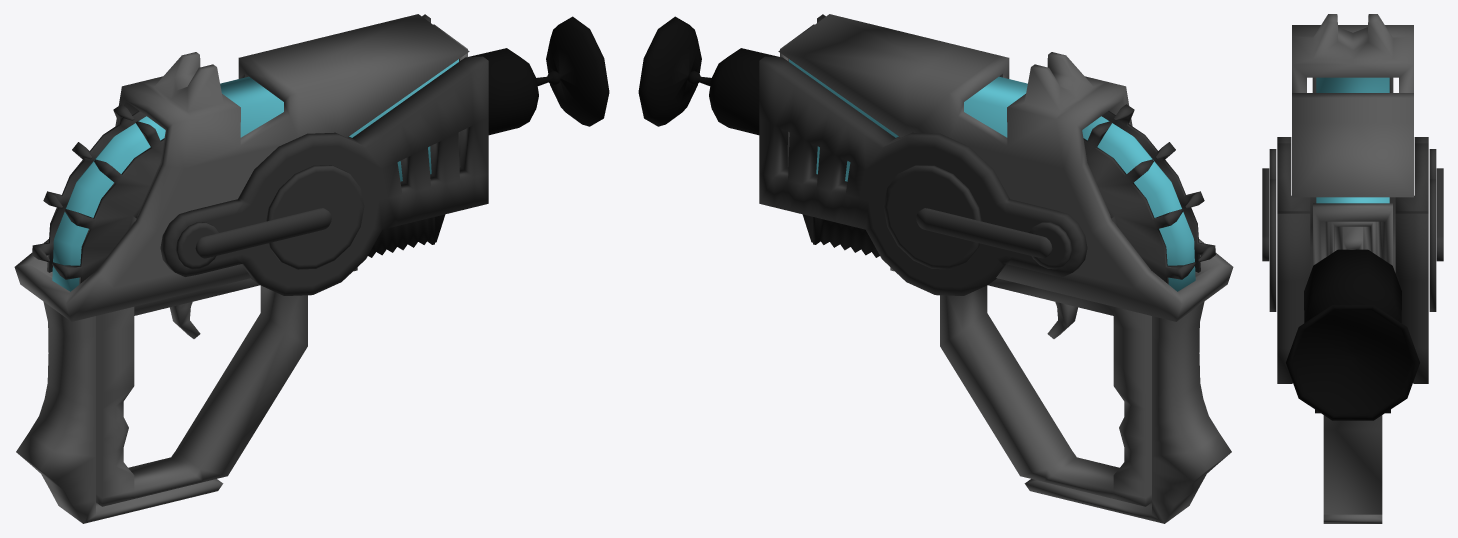
Rendered from LaserGun_low.FBX.
3 renders of one model, left to right at view 1: azimuth 30°, elevation 25°; view 2: azimuth 150°, elevation 25°; view 3: azimuth 270°, elevation 25°, orthographic. The views are drawn at different scales.
Visible parts, largest first — view 1: Gun_low, Circles_low, Radar_low, Glow_low, Wrinkles_low; view 2: Gun_low, Circles_low, Radar_low, Glow_low, Wrinkles_low; view 3: Gun_low, Radar_low, Circles_low, Glow_low.
Part boxes in pixels (x1,y1,x2,y2): Gun_low: (14,14,469,523); Circles_low: (32,14,488,295); Radar_low: (469,16,609,135); Glow_low: (52,59,458,291); Wrinkles_low: (368,214,445,257); Gun_low: (778,14,1233,523); Circles_low: (759,14,1215,295); Radar_low: (638,16,778,135); Glow_low: (789,59,1195,291); Wrinkles_low: (802,214,879,257); Gun_low: (1292,14,1413,523); Radar_low: (1286,249,1419,420); Circles_low: (1262,77,1443,383); Glow_low: (1316,77,1389,203).
Bounding box in the file's own units: 106 × 25.35 × 77.54.
